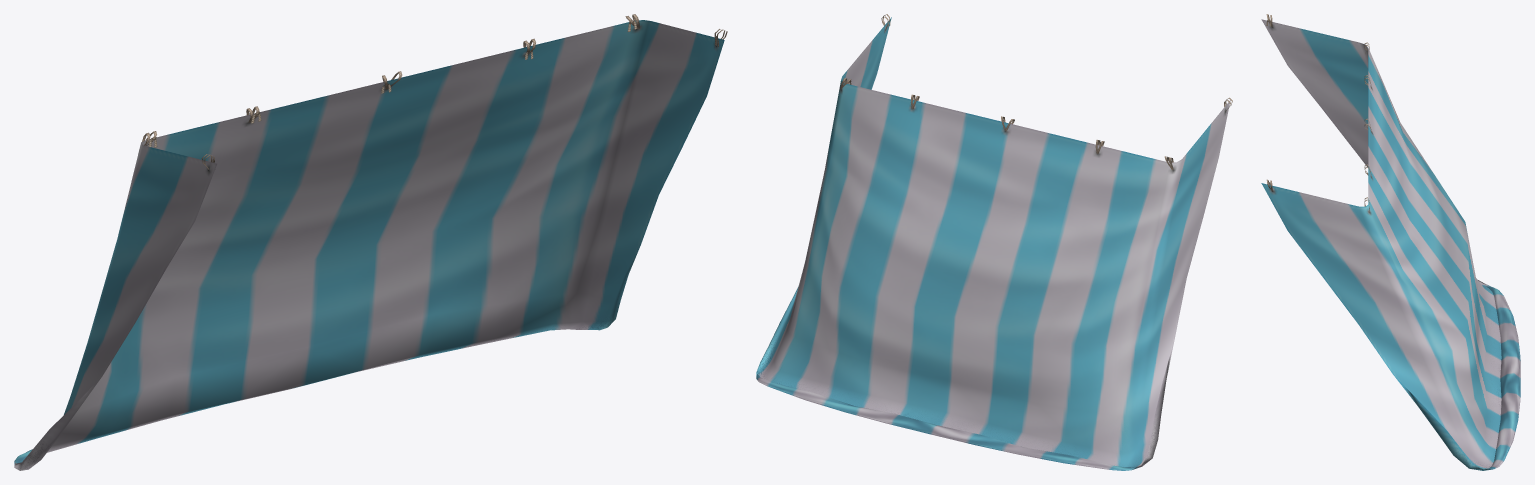
File: jsf_BackSide_s02_c02_t02.fbx
3 renders of one model, left to right at view 1: azimuth 30°, elevation 25°; view 2: azimuth 150°, elevation 25°; view 3: azimuth 270°, elevation 25°, orthographic. The views are drawn at different scales.
Visible parts, largest first — view 1: jsf_BackSide_s02_c02_t02; view 2: jsf_BackSide_s02_c02_t02; view 3: jsf_BackSide_s02_c02_t02.
Boxes of the visible parts, x1,y1,x2,y2 form: jsf_BackSide_s02_c02_t02: (14, 14, 727, 470); jsf_BackSide_s02_c02_t02: (756, 14, 1232, 470); jsf_BackSide_s02_c02_t02: (1261, 14, 1520, 470).
Size of the model in its own units: 296 by 205 by 171.
